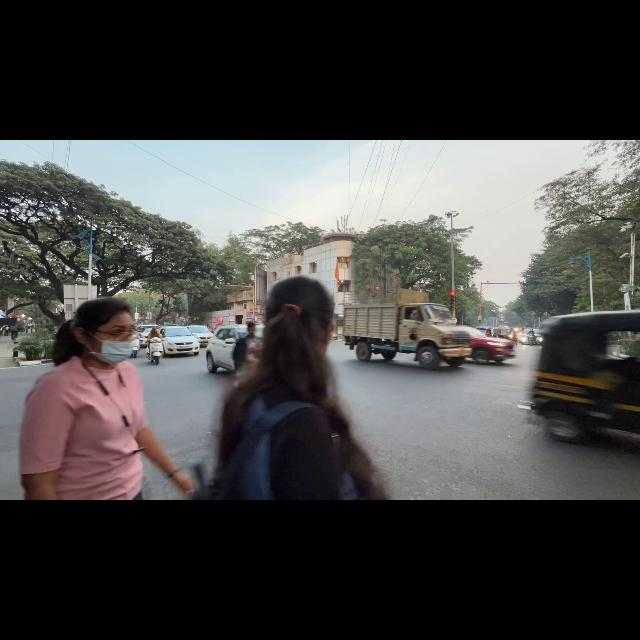car: (206, 325, 247, 372), (467, 328, 514, 363), (160, 326, 199, 355), (187, 325, 212, 346), (138, 328, 152, 348), (137, 324, 159, 332), (520, 328, 531, 344)
motorcycle: (146, 337, 164, 365), (131, 339, 139, 358), (528, 334, 538, 345)
truck: (344, 290, 470, 369)
